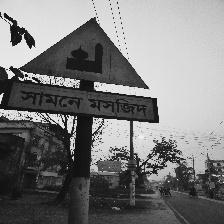Mosque in front: (7, 16, 155, 123)
